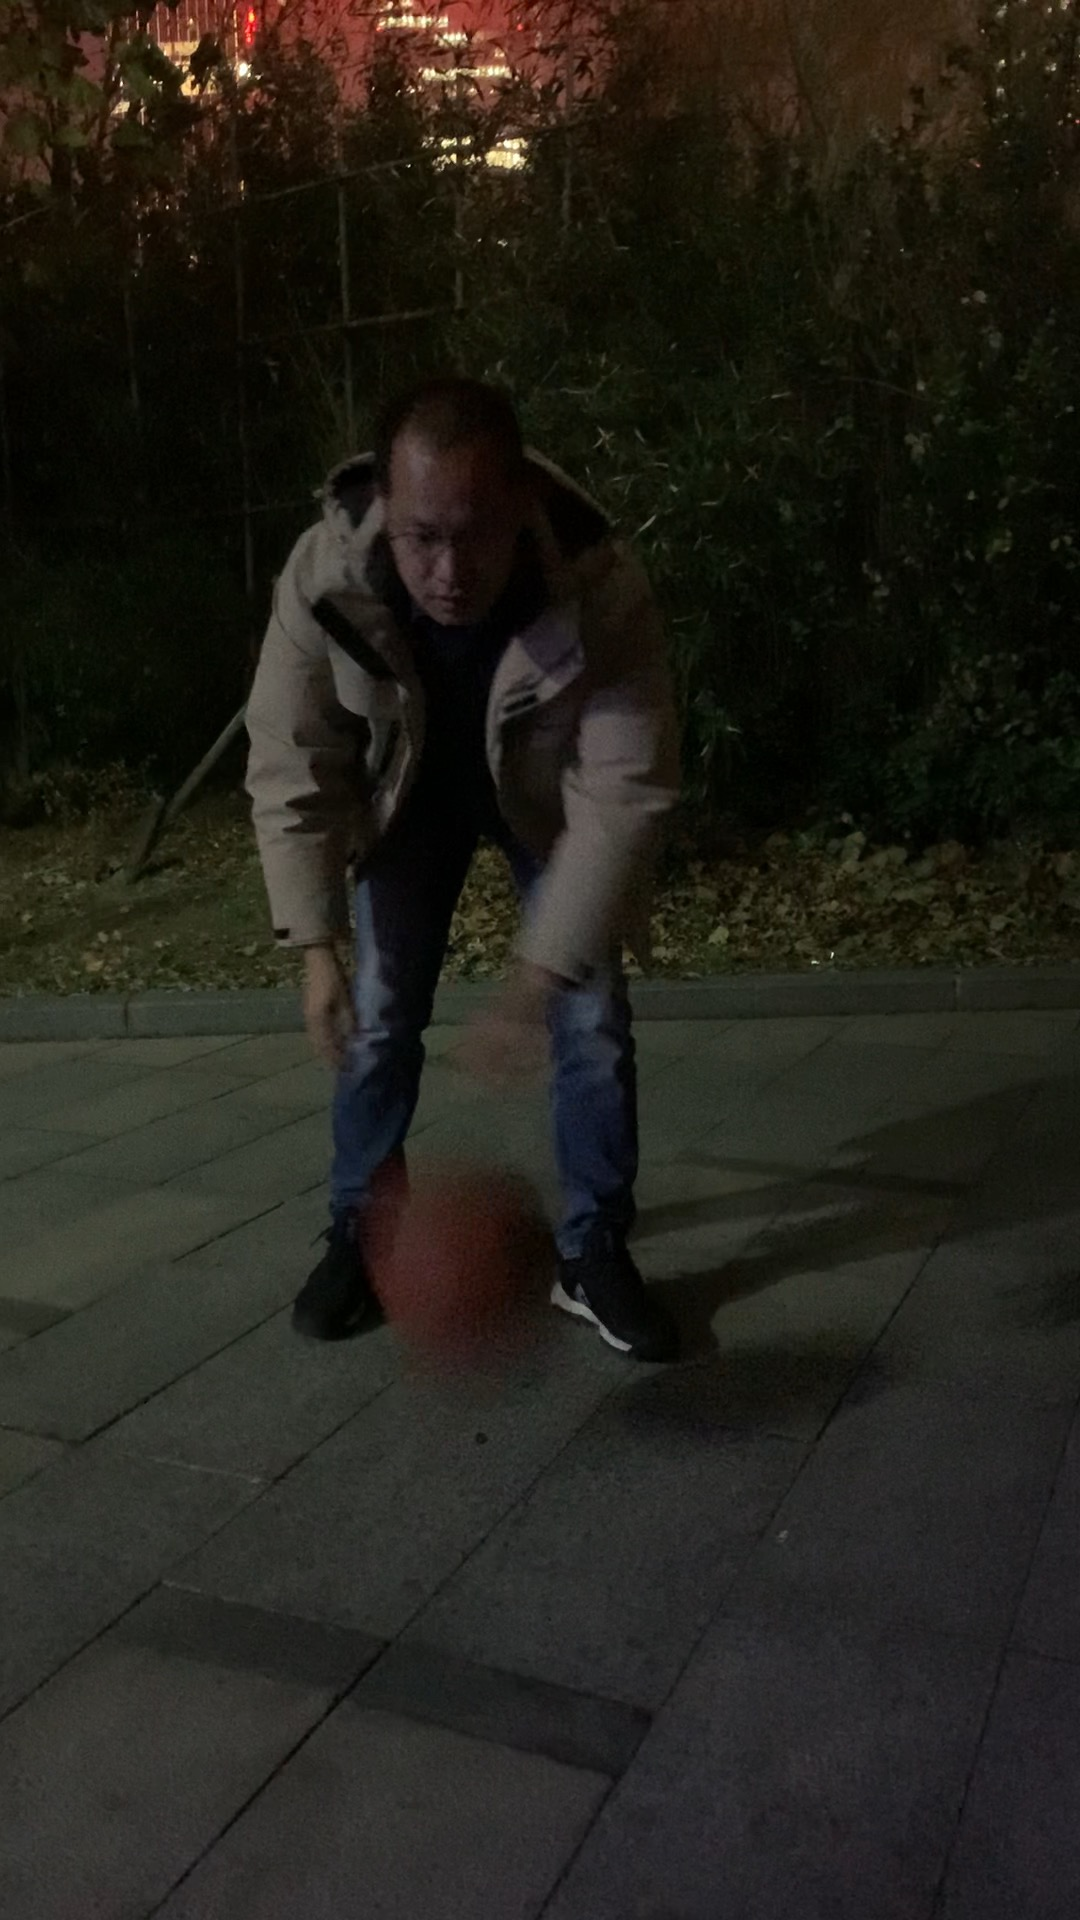ball: (360, 1164, 560, 1353)
